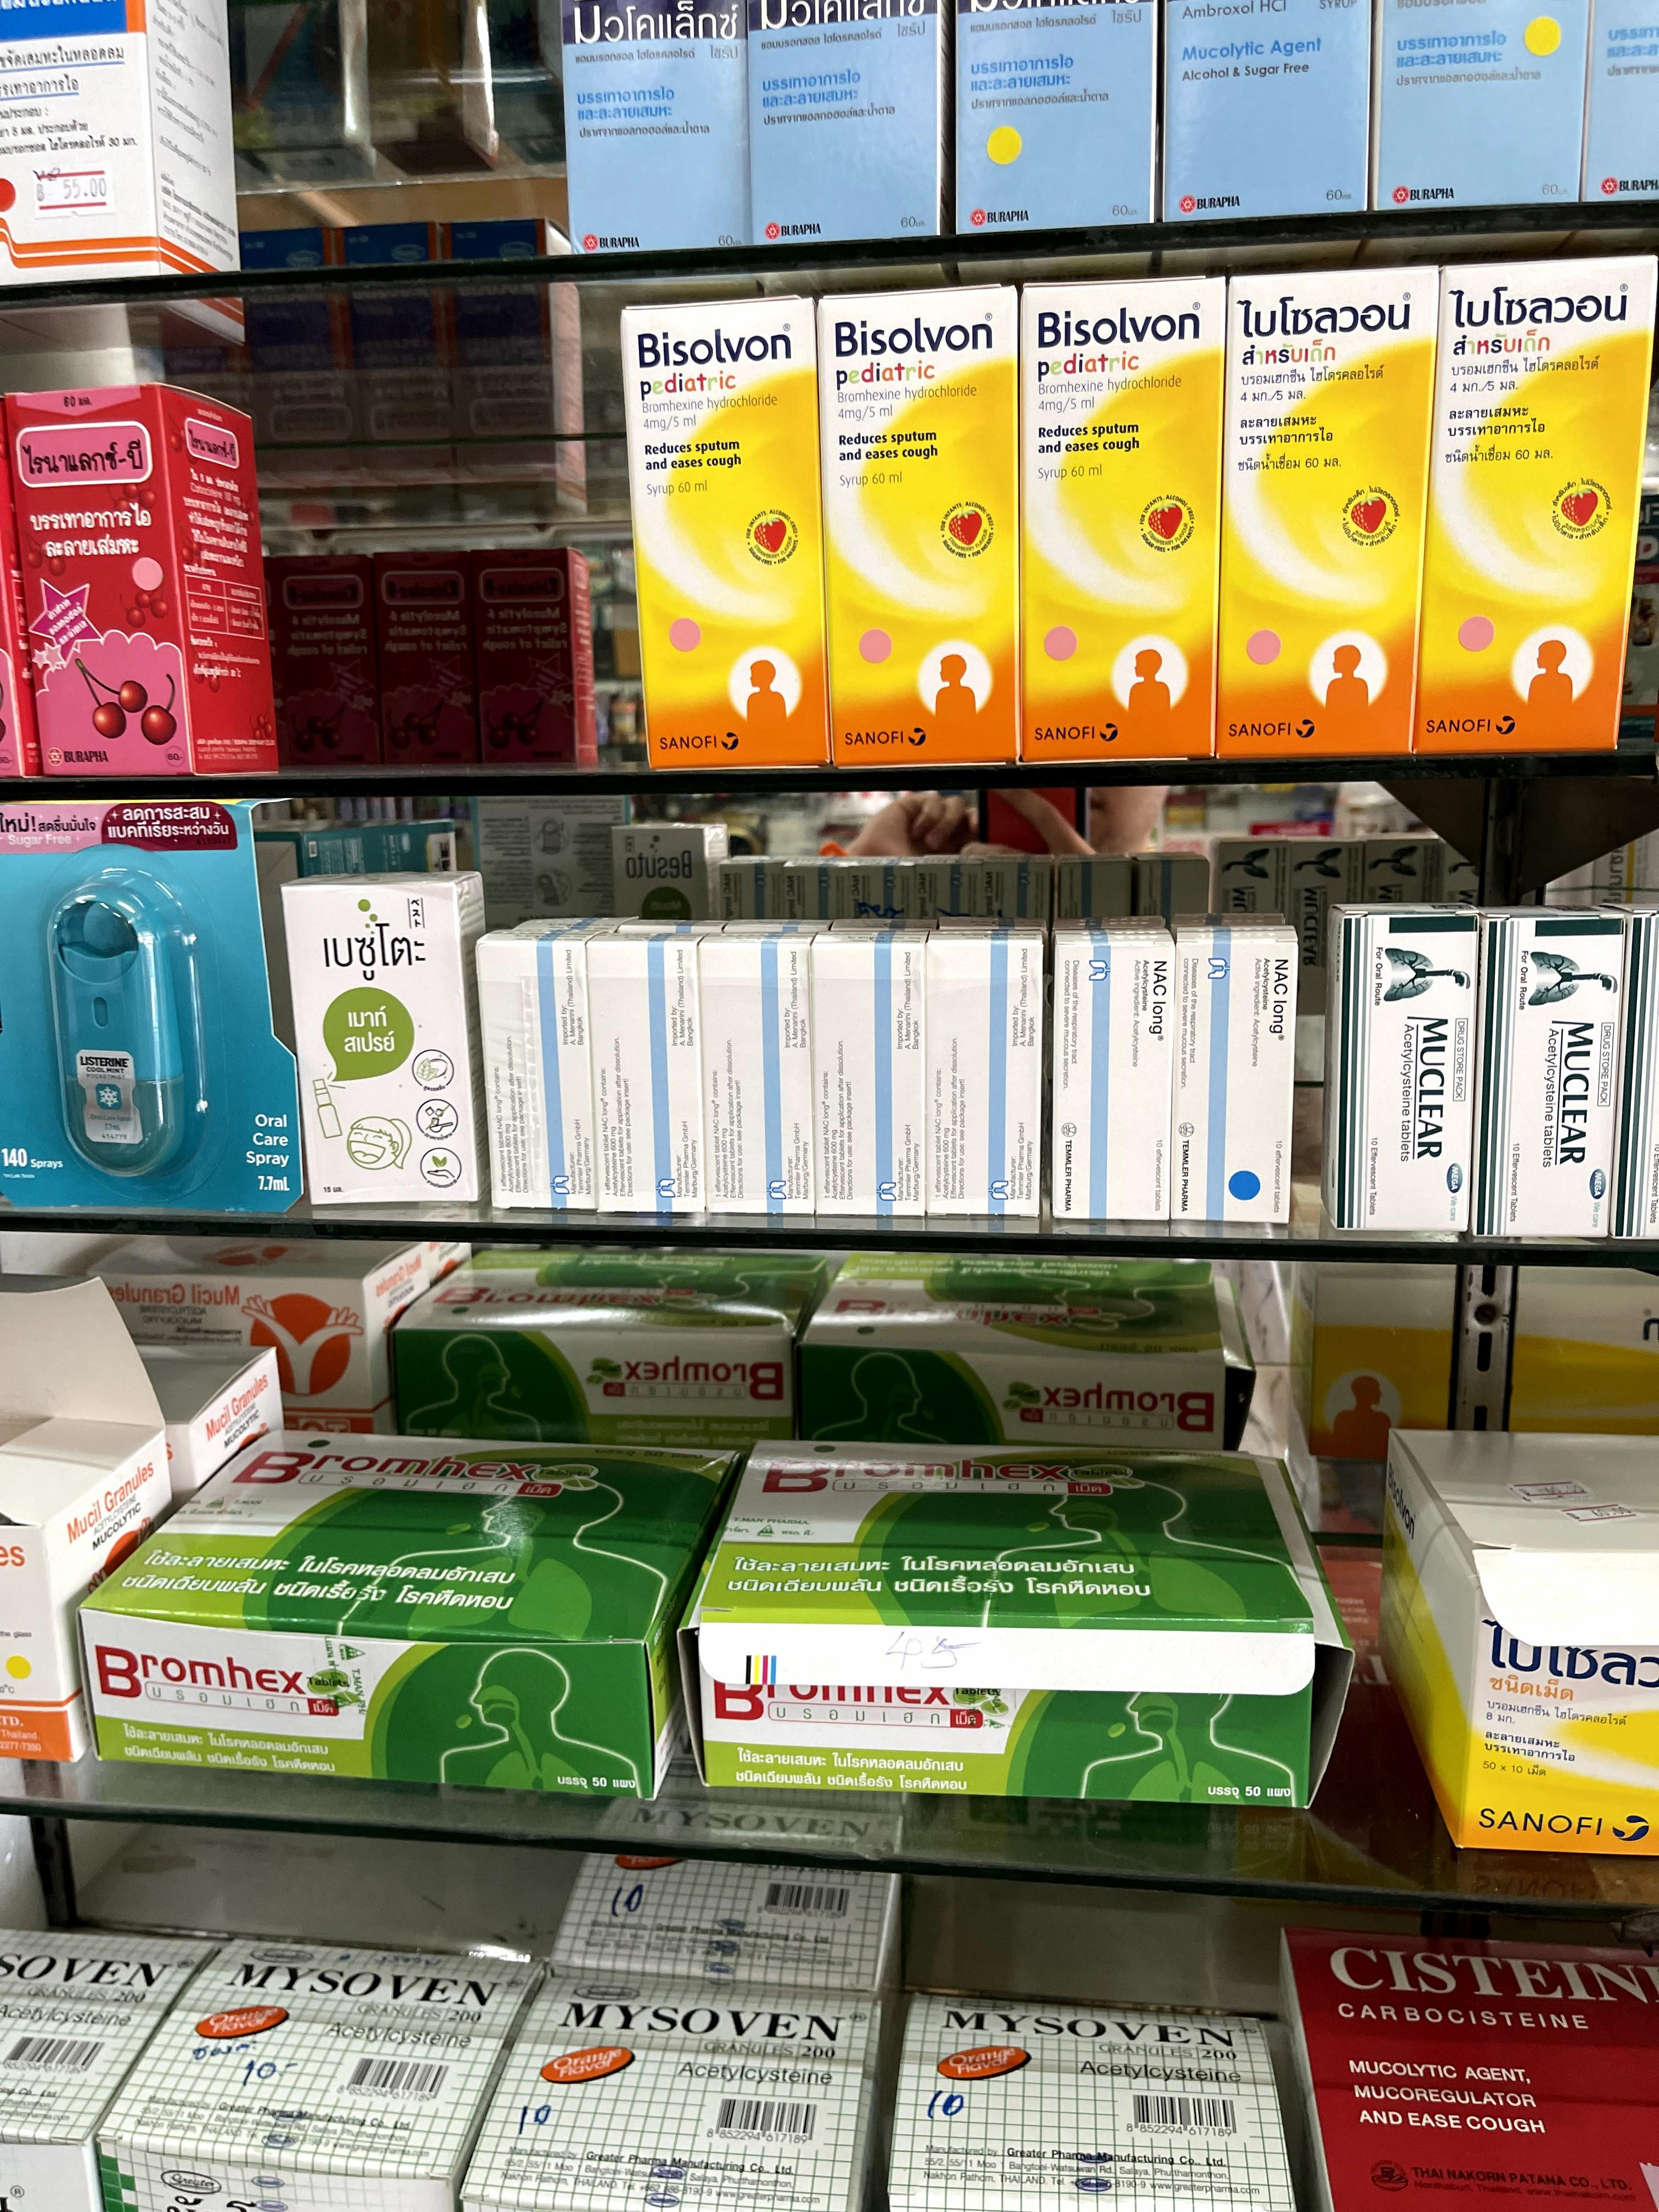Cisteine_Box: (1281, 1930, 1659, 2212)
Muclear: (1328, 902, 1471, 1231), (1485, 911, 1619, 1230)
Nac-Long: (1171, 918, 1293, 1221), (805, 923, 929, 1211), (586, 923, 704, 1214), (1054, 927, 1173, 1217), (925, 927, 1042, 1211), (704, 923, 819, 1211), (484, 932, 599, 1211)
Rhinalax-B: (2, 390, 282, 773)
